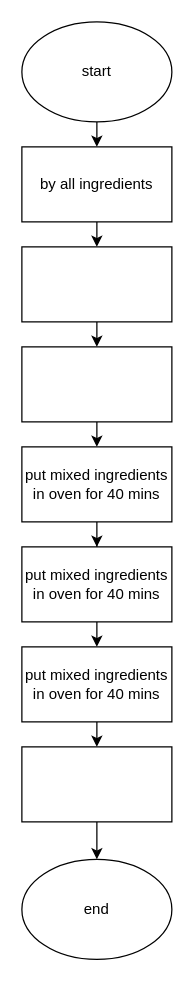
The diagram is 194 pixels wide and 981 high, and some of its shapes have lost their labels. The shapes that lost their labels are listed below. From the top down, each one's centre as x and y in pixels, then its label:
the point at 96,284: mix together all ingredients
the point at 96,384: preheat oven
the point at 96,784: take out and eat a cake
